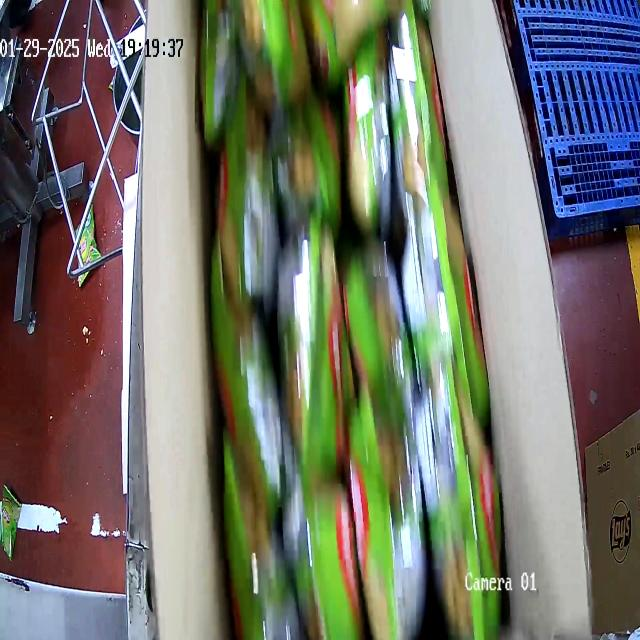YOGURT_HERB: (201, 0, 503, 638)
